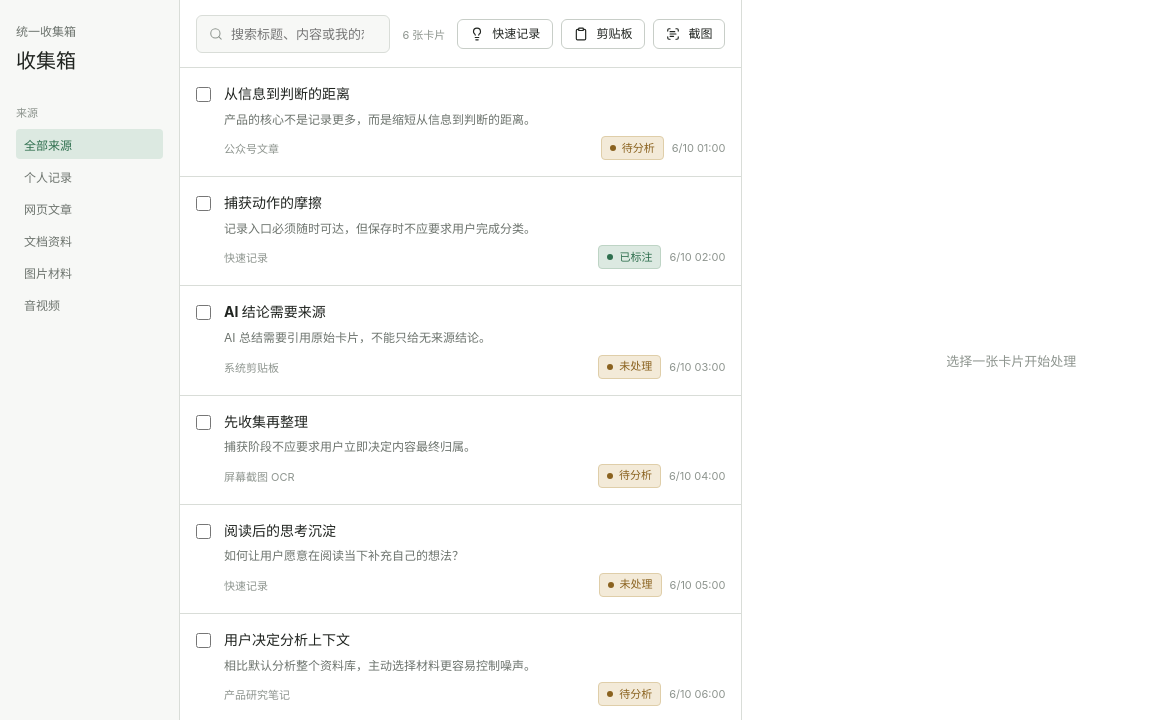
InboxPage › clears selection and hides the bulk action bar
This screenshot has width=1152, height=720.
Click the checkbox named "选择「从信息到判断的距离」": (204, 94) [196,87,211,102]
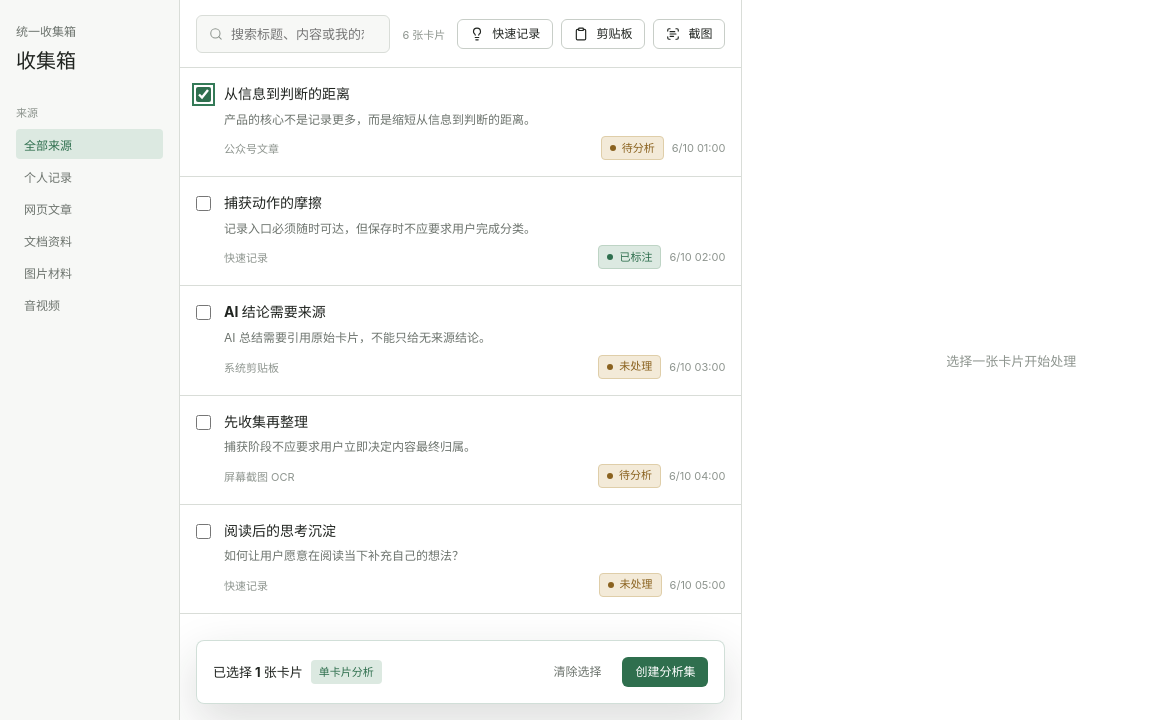
Check: the text "已选择 1 张卡片" is shown, box [213,663,303,681]
Click the button "清除选择": (577, 672) [540,657,614,687]
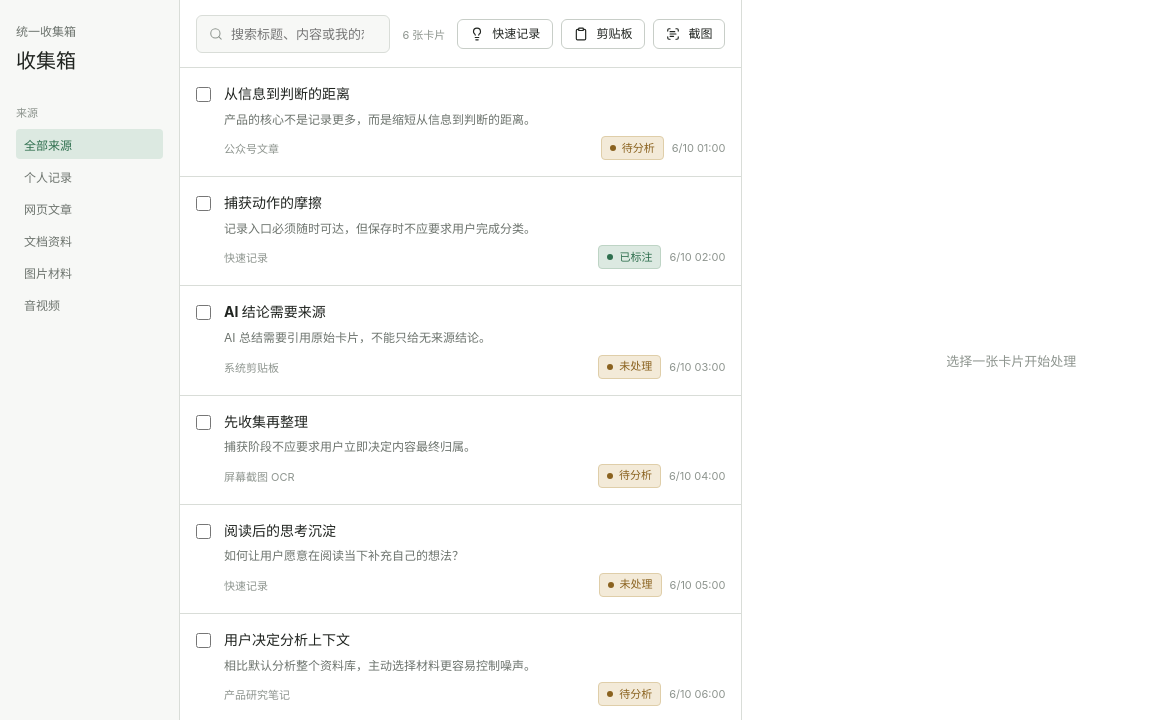
Check: the text "已选择 1 张卡片" is gone
